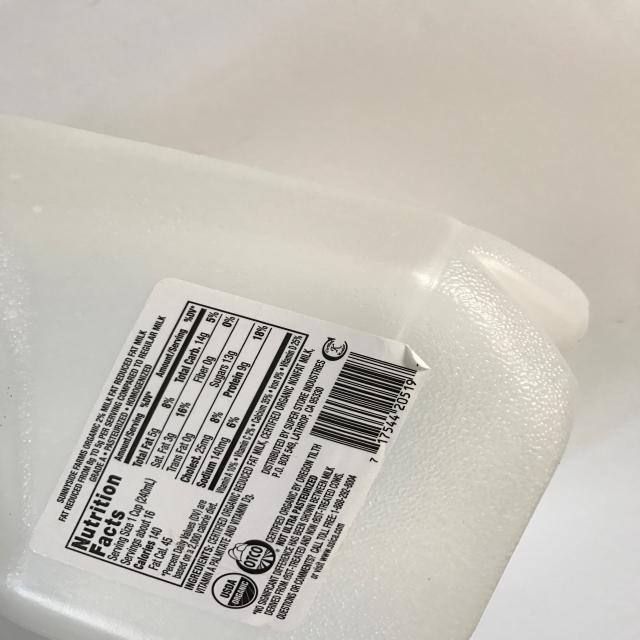plastic: (1, 113, 590, 639)
